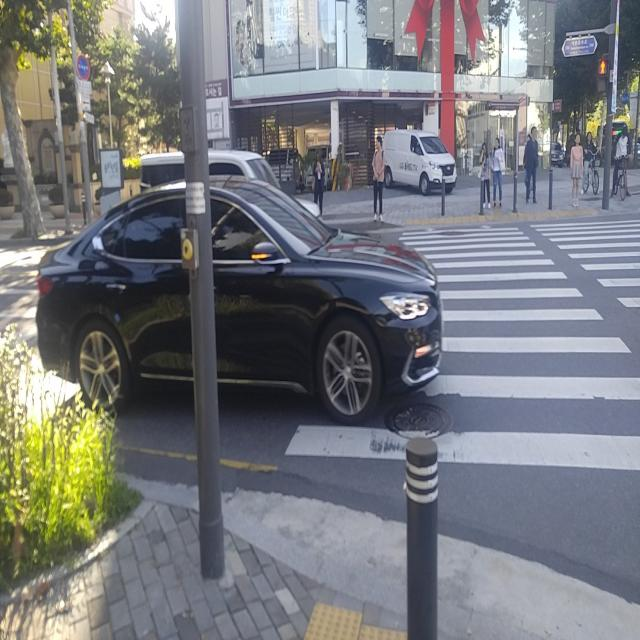빨간불: (597, 57, 609, 93)
횡단보도: (281, 221, 640, 468)
